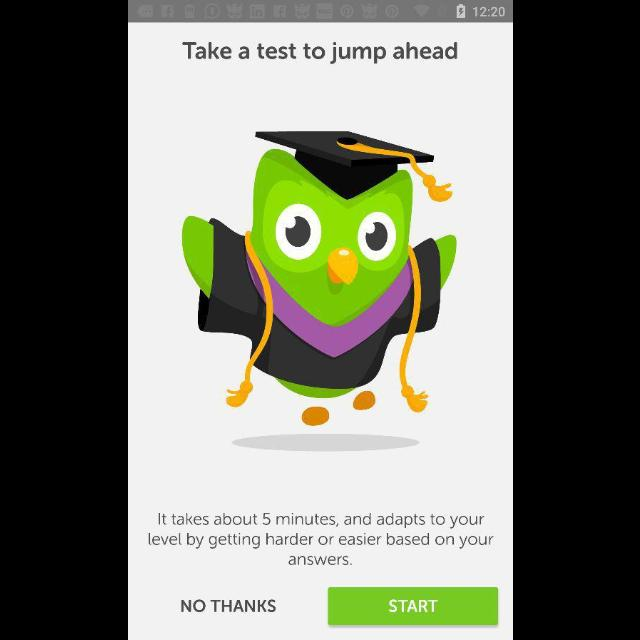image: (181, 130, 457, 452)
text: (147, 512, 493, 566), (182, 42, 456, 64), (181, 600, 275, 612)
textbutton: (327, 586, 498, 626)
uppertaskbar: (128, 1, 512, 23)
